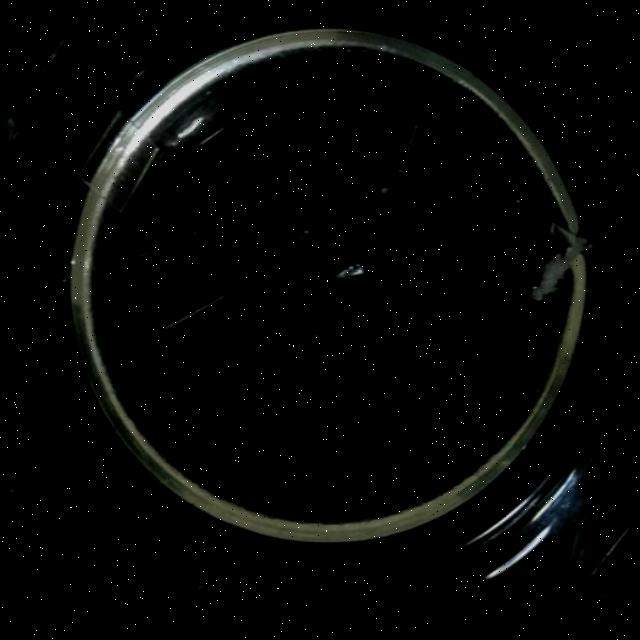Film: (478, 198, 588, 300), (128, 228, 228, 329), (323, 90, 419, 176), (78, 108, 156, 212), (296, 221, 366, 283)
